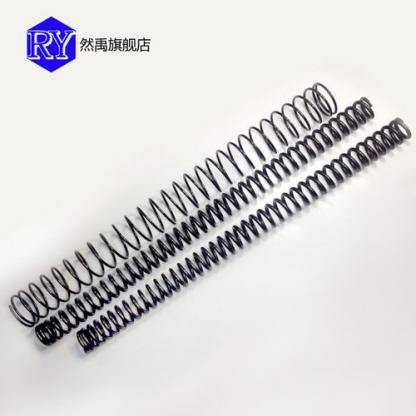FOD: (34, 92, 376, 348), (5, 80, 339, 329), (73, 113, 413, 357)
